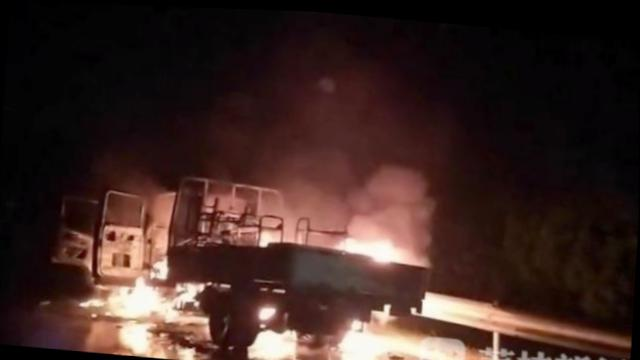fire: (79, 243, 201, 322), (330, 213, 423, 274)
